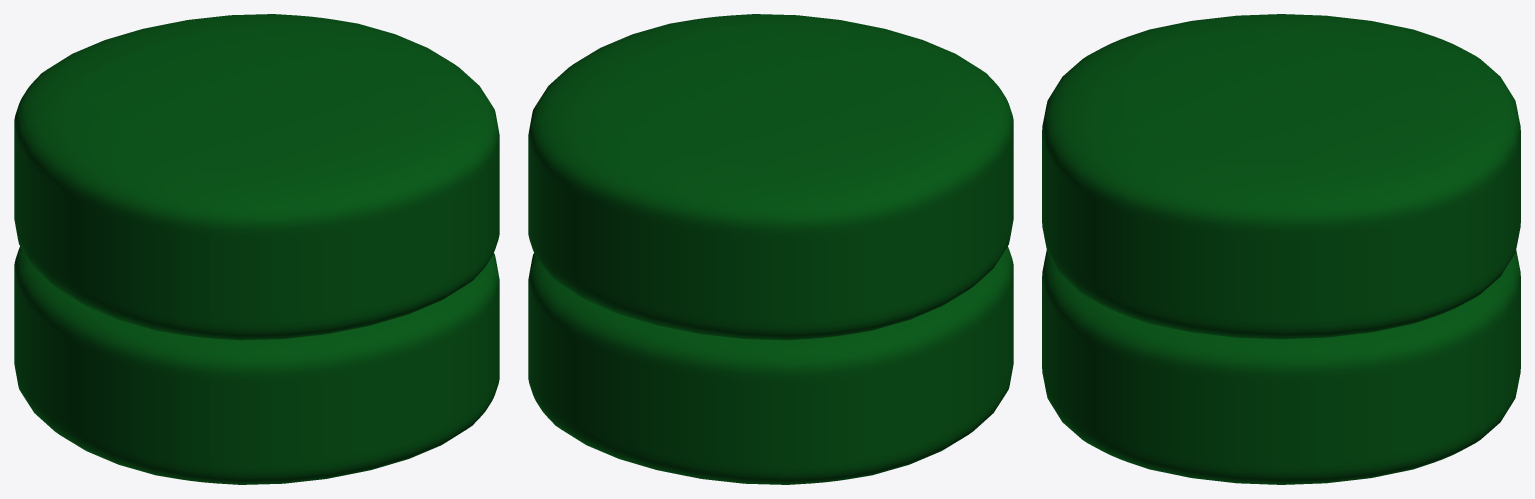
The model's file is webcam.glb.
3 views of the same model, side by side, from view 1: azimuth 30°, elevation 25°; view 2: azimuth 150°, elevation 25°; view 3: azimuth 270°, elevation 25° (orthographic).
Visible parts, largest first — view 1: Cube.006; view 2: Cube.006; view 3: Cube.006.
Part boxes in pixels (<box>): Cube.006: <box>14,14,499,484</box>; Cube.006: <box>528,14,1013,484</box>; Cube.006: <box>1042,14,1520,484</box>.
Size of the model in its own units: 3.8 by 2.77 by 3.8.
